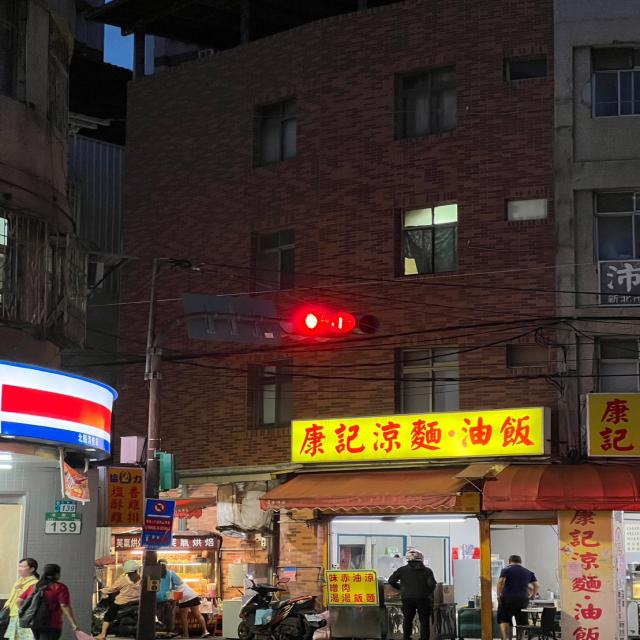red light: (287, 306, 381, 336)
